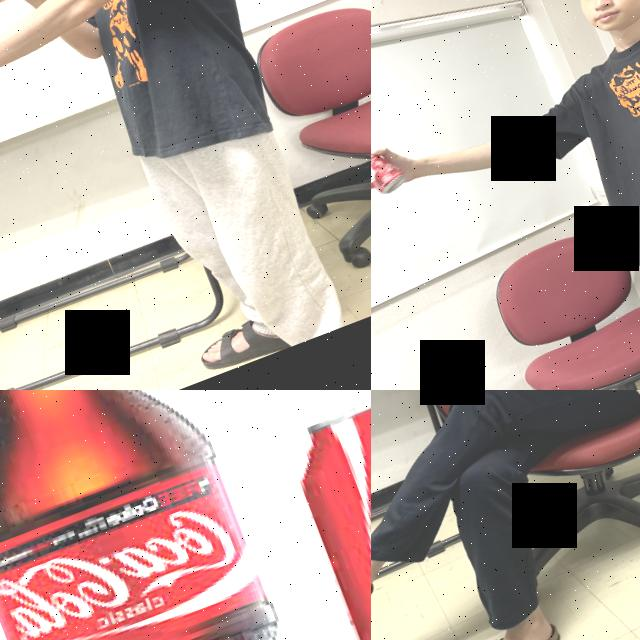bottle: (0, 390, 366, 640)
can: (278, 390, 371, 640), (371, 125, 412, 208)
